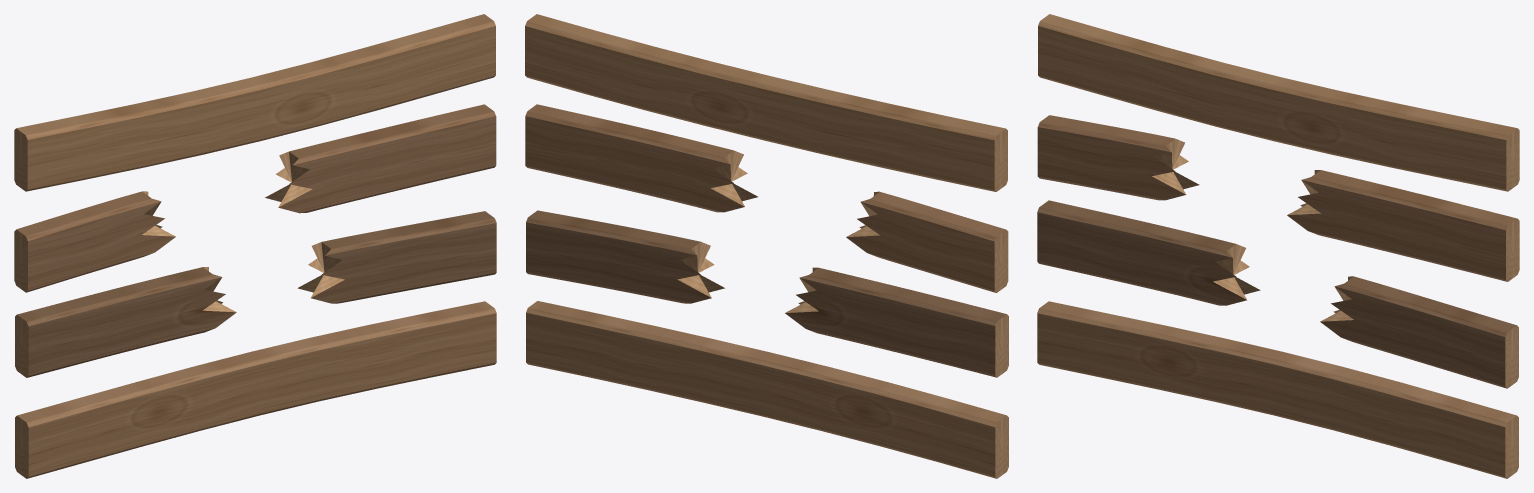
File: fence_slats_04.glb
3 views of the same model, side by side, from view 1: azimuth 30°, elevation 25°; view 2: azimuth 150°, elevation 25°; view 3: azimuth 330°, elevation 25° (orthographic).
Visible parts, largest first — view 1: TileDecorationFenceSlats04; view 2: TileDecorationFenceSlats04; view 3: TileDecorationFenceSlats04.
Boxes of the visible parts, x1,y1,x2,y2 form: TileDecorationFenceSlats04: (14, 14, 496, 478); TileDecorationFenceSlats04: (525, 14, 1008, 478); TileDecorationFenceSlats04: (1037, 14, 1519, 478).
Size of the model in its own units: 1 by 0.7 by 0.0534.
1 material, 1 textured.
